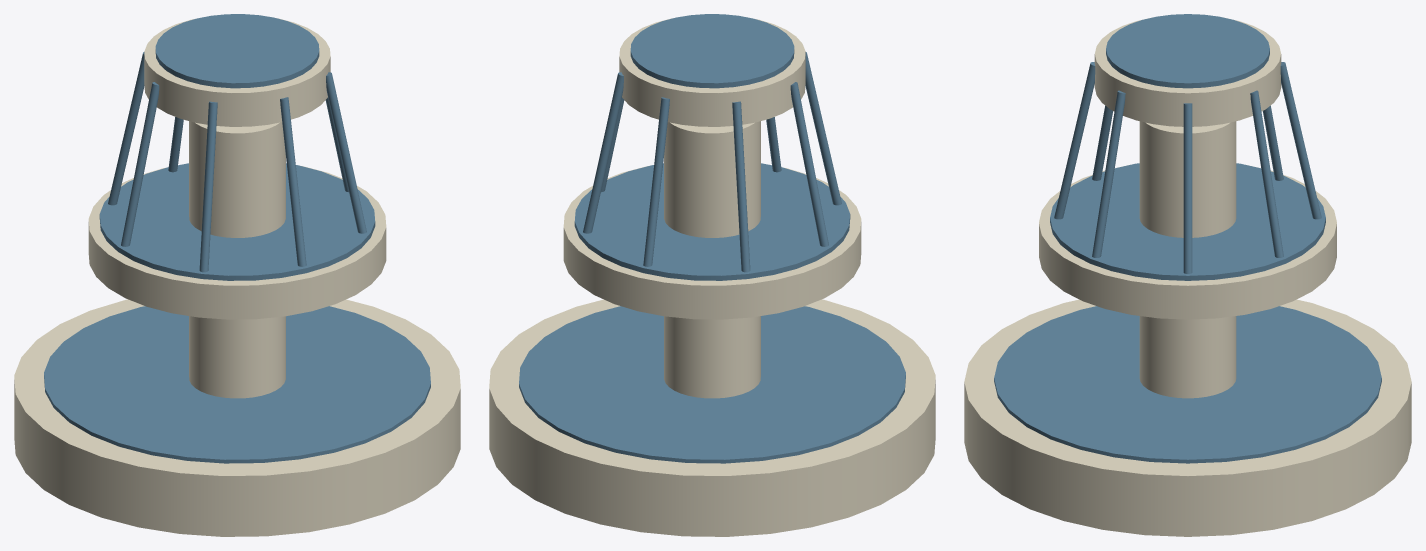
The model's file is fountain.glb.
3 renders of one model, left to right at view 1: azimuth 30°, elevation 25°; view 2: azimuth 150°, elevation 25°; view 3: azimuth 270°, elevation 25°, orthographic.
Visible parts, largest first — view 1: fountain; view 2: fountain; view 3: fountain.
Boxes of the visible parts, <box> form: fountain: <box>14,14,460,536</box>; fountain: <box>489,14,935,536</box>; fountain: <box>964,14,1411,536</box>.
Size of the model in its own units: 1.2 by 1.17 by 1.2.
